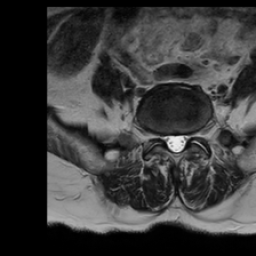CCS_normal: (171, 129, 179, 158)
LFS_severe_stenosis: (187, 123, 195, 147)
LLS_normal: (179, 128, 187, 155)
RFS_stenosis: (155, 124, 163, 149)
RLS_normal: (163, 125, 171, 154)
